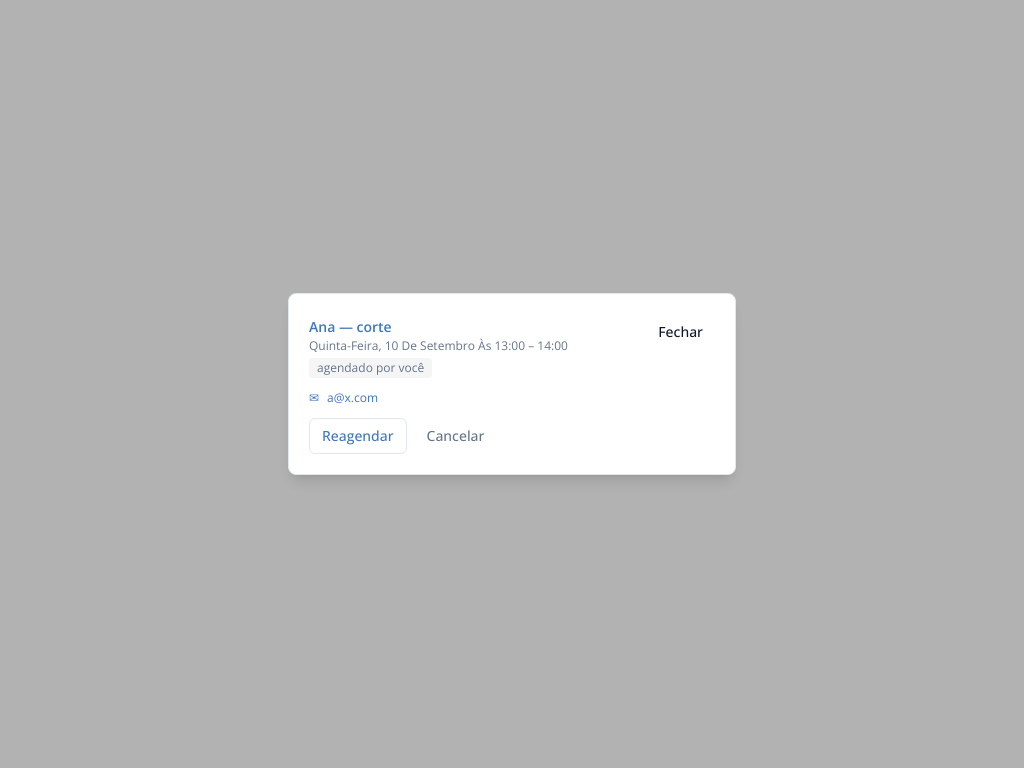
AppointmentPanel — contato vinculado (popup) › mostra o e-mail como link; clicar abre o popup com telefone e ficha
Click the button "✉ a@x.com": click(344, 398) [309,390,378,406]
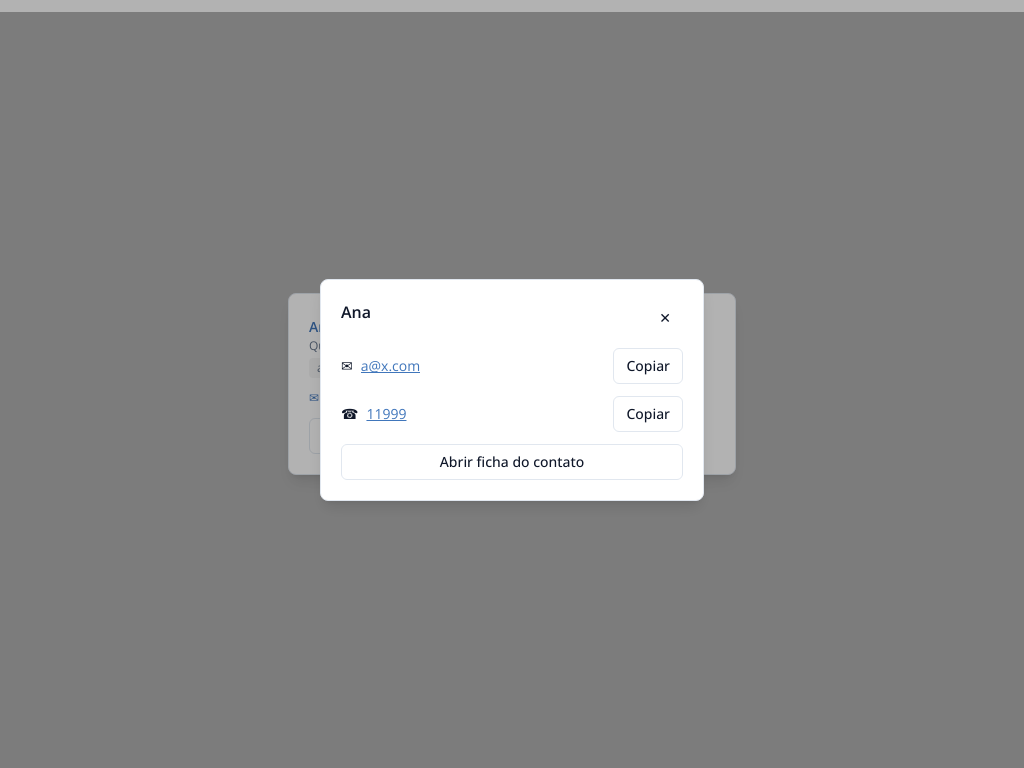
Check: the dialog named "dados do contato" is shown, box [320,279,704,501]
Check: the link "11999" is shown, box [366,404,406,424]
Check: the link "Abrir ficha do contato" is shown, box [341,444,683,480]
